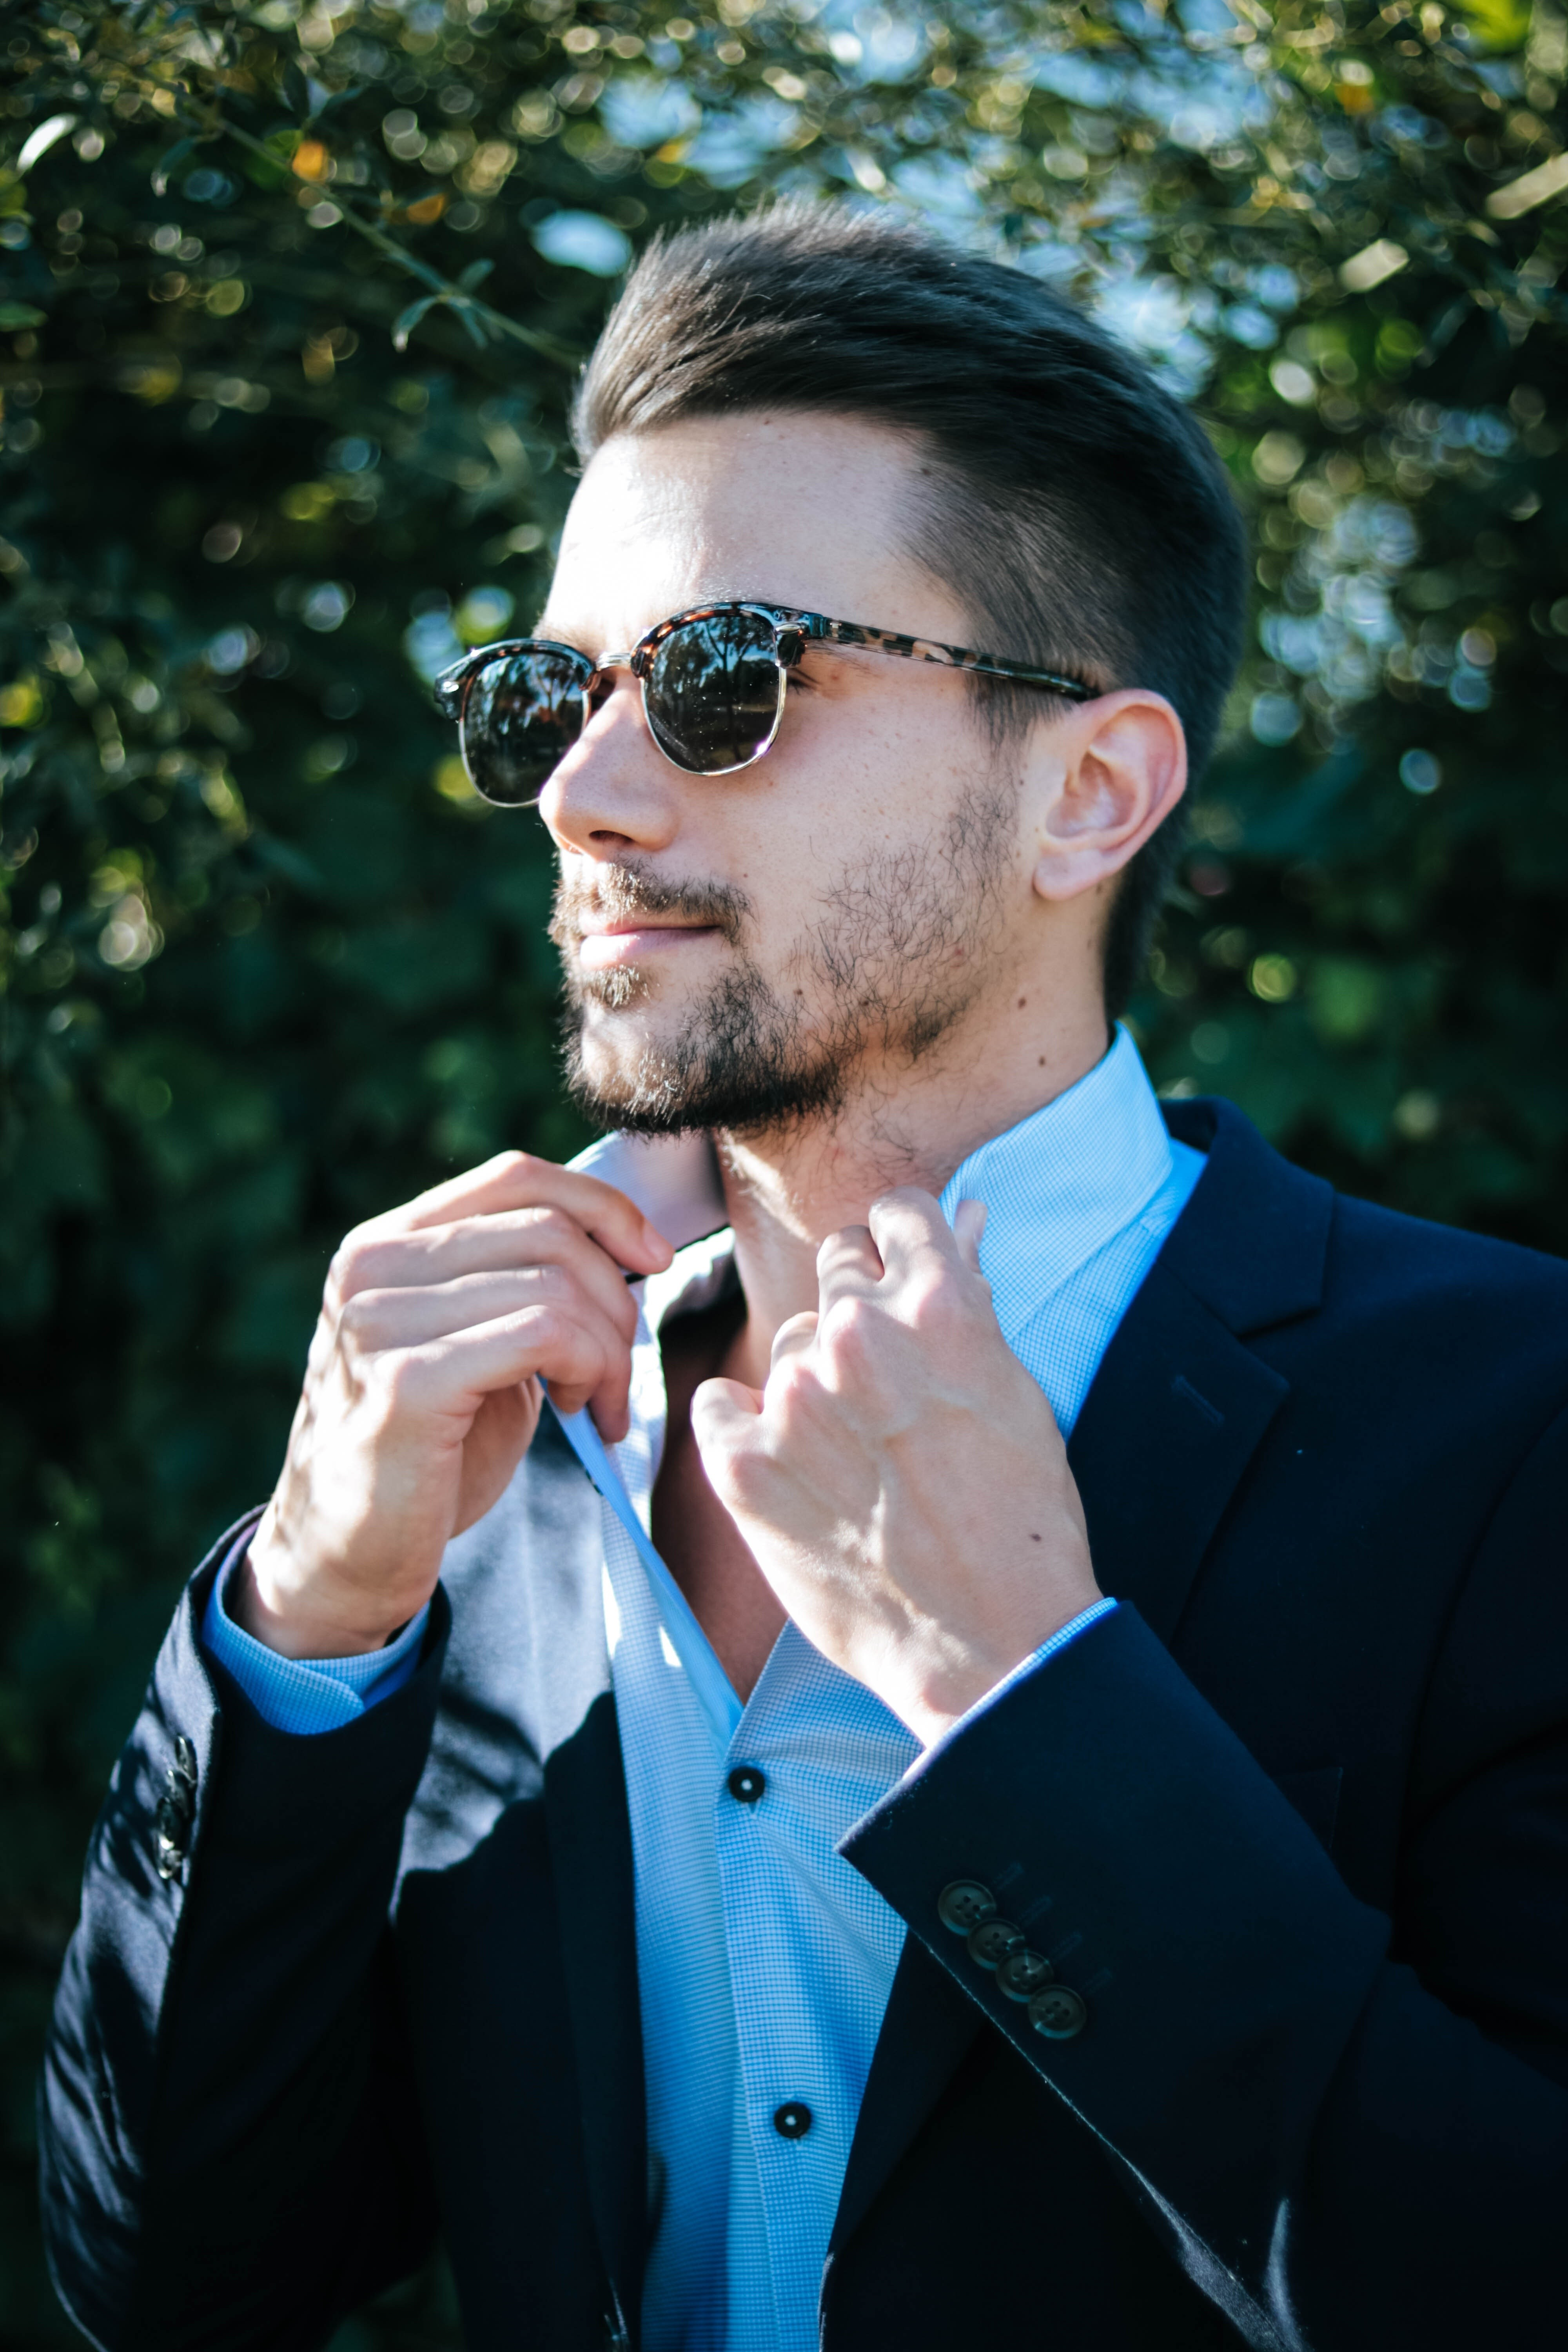face_no_mask: (498, 359, 1183, 1180)
